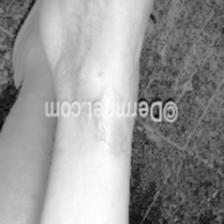Unclassified: (96, 120, 128, 160)
